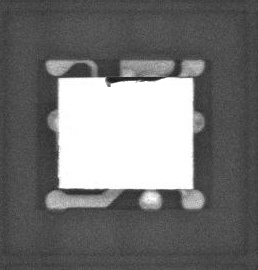DIE_BROKEN: (102, 73, 169, 85)
